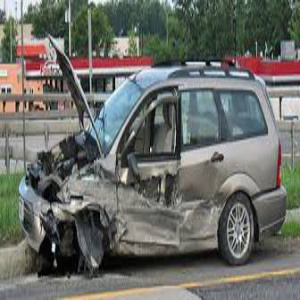door: (115, 172, 218, 254)
